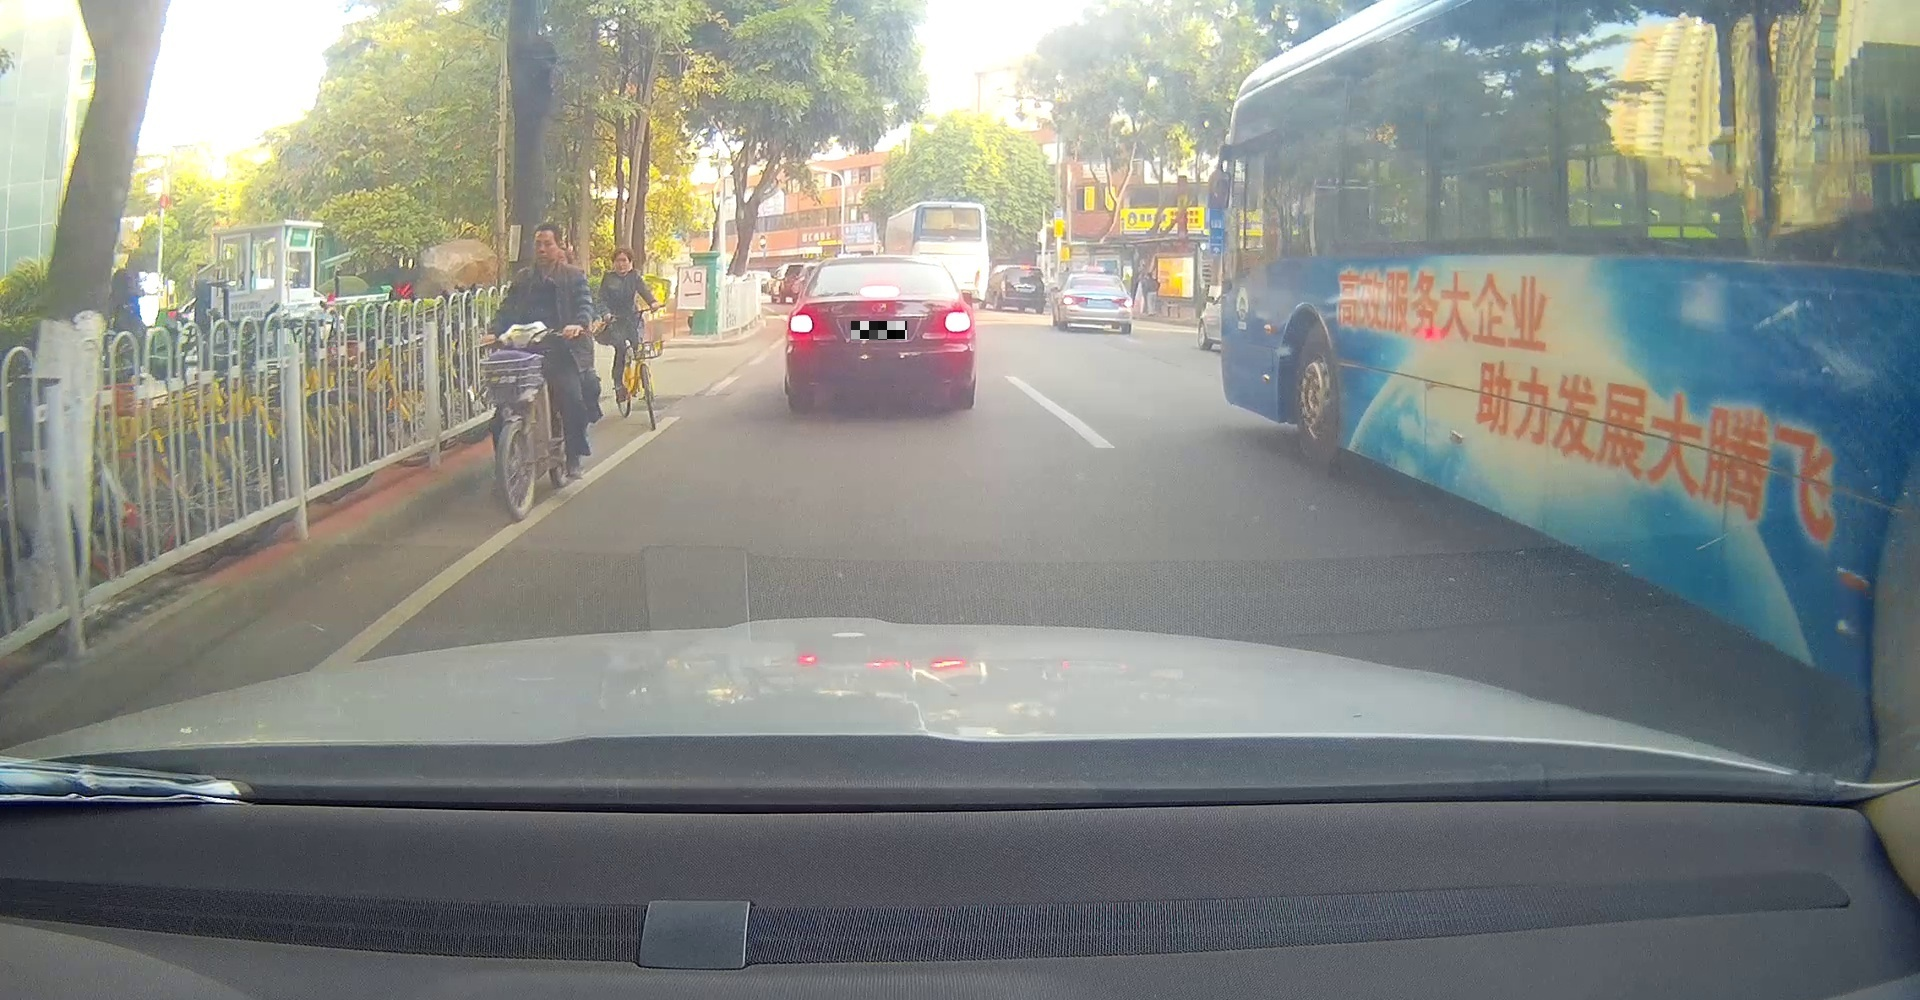L_light: (789, 313, 814, 334), (1062, 294, 1086, 305)
R_light: (943, 311, 971, 332), (1112, 298, 1131, 308)
T_light: (858, 286, 899, 298), (1091, 277, 1102, 280)
day-brake: (785, 256, 974, 412), (1062, 273, 1133, 334)
plate_1: (851, 321, 907, 340)
